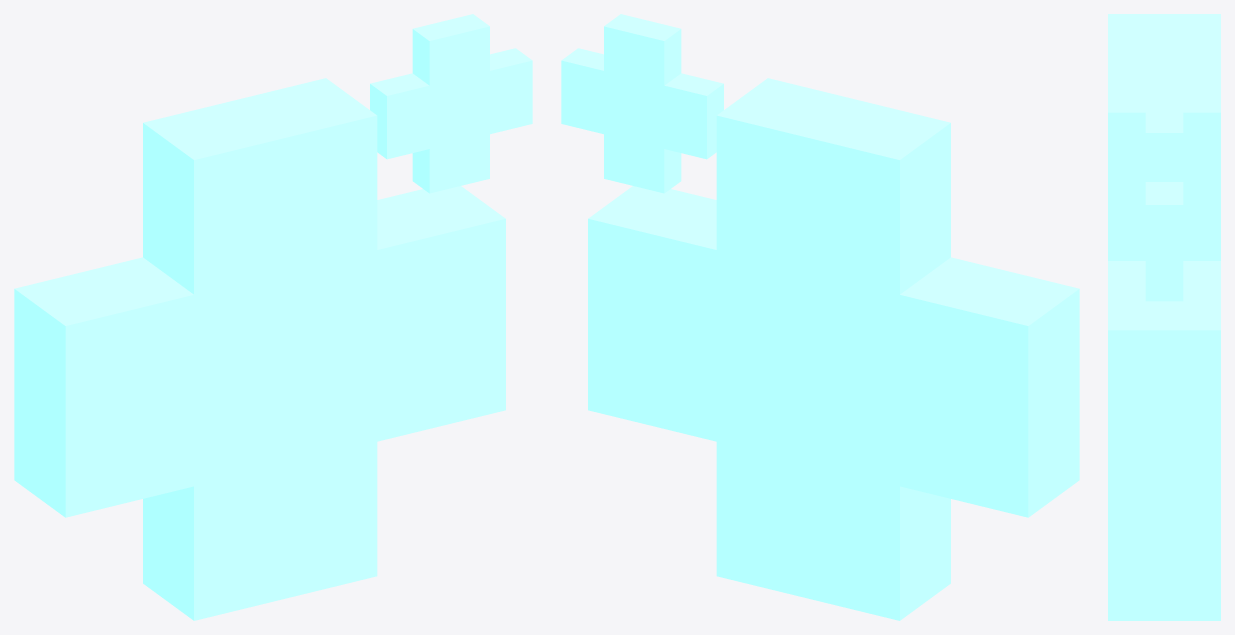
The model's file is Heal_1.fbx.
3 renders of one model, left to right at view 1: azimuth 30°, elevation 25°; view 2: azimuth 150°, elevation 25°; view 3: azimuth 270°, elevation 25°, orthographic. The views are drawn at different scales.
Visible parts, largest first — view 1: Cube; view 2: Cube; view 3: Cube.
Part boxes in pixels (<box>): Cube: <box>14,14,532,620</box>; Cube: <box>561,14,1079,620</box>; Cube: <box>1108,14,1220,620</box>.
Size of the model in its own units: 529 by 528 by 96.8.
